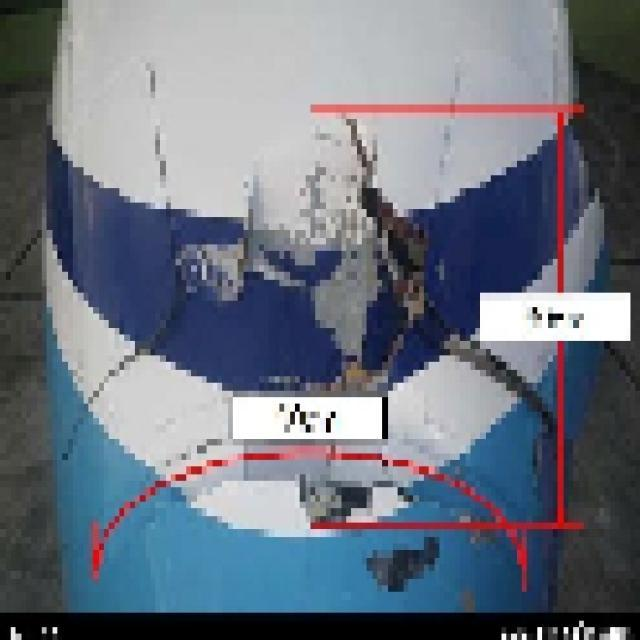crack: (345, 123, 560, 448)
